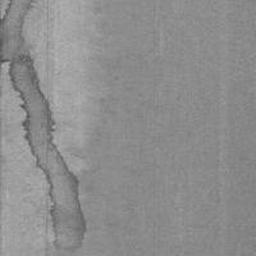Water spot: (0, 0, 88, 251)
